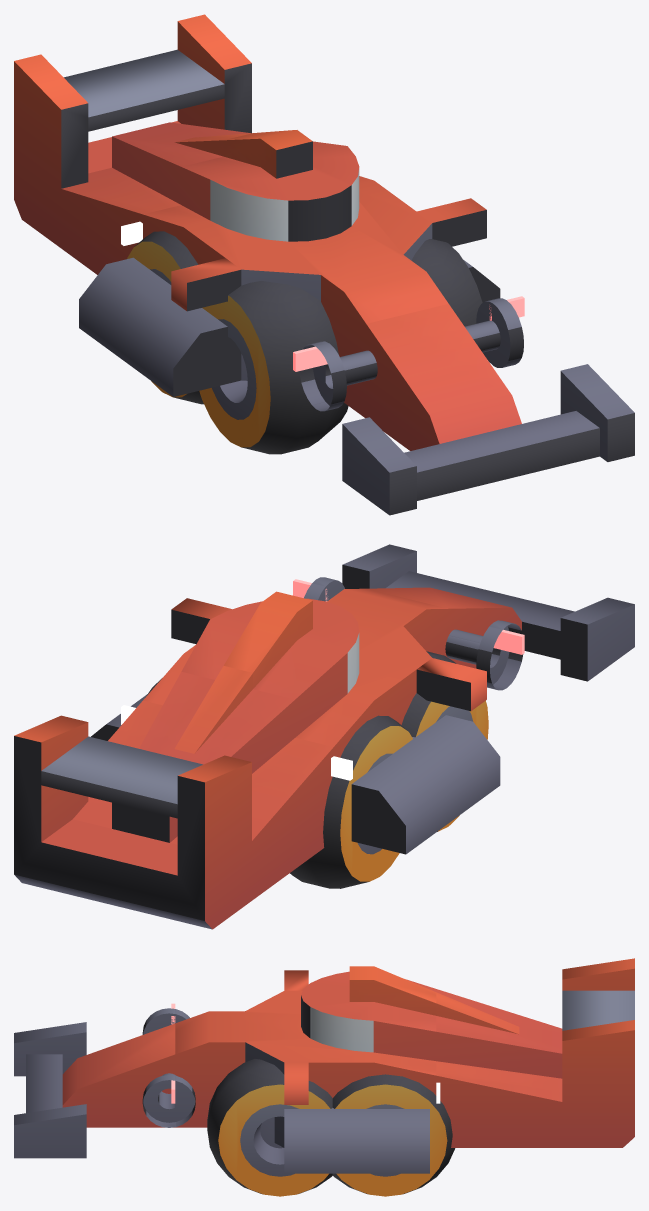
The model's file is racecar.glb.
3 renders of one model, top to bottom at view 1: azimuth 30°, elevation 25°; view 2: azimuth 150°, elevation 25°; view 3: azimuth 270°, elevation 25°, orthographic. The views are drawn at different scales.
Visible parts, largest first — view 1: body, trunk, hood, wheel_fr, wheel_fl, wheel_rr; view 2: hood, body, trunk, wheel_rr, wheel_fr, taillight_l; view 3: body, hood, trunk, wheel_fl, wheel_rl.
Part boxes in pixels (left/top/right/bottom): body: left=79, top=130, right=502, bottom=418; trunk: left=312, top=298, right=634, bottom=515; hood: left=14, top=14, right=252, bottom=274; wheel_fr: left=199, top=281, right=348, bottom=454; wheel_fl: left=411, top=239, right=485, bottom=356; wheel_rr: left=127, top=231, right=203, bottom=404; hood: left=14, top=666, right=333, bottom=929; body: left=91, top=583, right=502, bottom=854; trunk: left=312, top=544, right=634, bottom=689; wheel_rr: left=290, top=715, right=412, bottom=888; wheel_fr: left=401, top=651, right=488, bottom=831; taillight_l: left=493, top=629, right=524, bottom=654; body: left=175, top=966, right=436, bottom=1173; hood: left=436, top=958, right=634, bottom=1147; trunk: left=14, top=1008, right=175, bottom=1158; wheel_fl: left=207, top=1059, right=332, bottom=1196; wheel_rl: left=332, top=1074, right=455, bottom=1196.
Bounding box in the file's own units: 4.2 × 3.06 × 8.96.
Materials: 4 (1 with a texture image).
